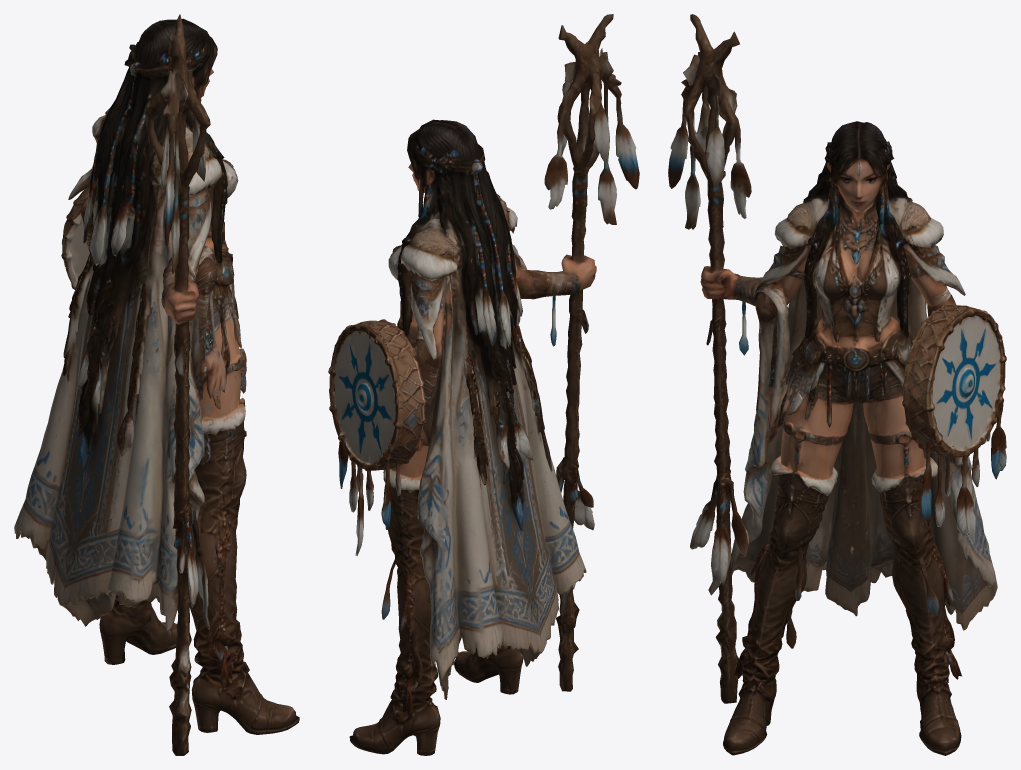
The model's file is drumcaller2_T0-tripo.glb.
3 renders of one model, left to right at view 1: azimuth 30°, elevation 25°; view 2: azimuth 150°, elevation 25°; view 3: azimuth 270°, elevation 25°, orthographic. The views are drawn at different scales.
Parts seen in each view (by area): view 1: tripo_node_cd5ef1df-f02d-4b8d-b730-f67332f5bfe5; view 2: tripo_node_cd5ef1df-f02d-4b8d-b730-f67332f5bfe5; view 3: tripo_node_cd5ef1df-f02d-4b8d-b730-f67332f5bfe5.
Boxes of the visible parts, <box> form: tripo_node_cd5ef1df-f02d-4b8d-b730-f67332f5bfe5: <box>14,14,299,755</box>; tripo_node_cd5ef1df-f02d-4b8d-b730-f67332f5bfe5: <box>328,14,639,755</box>; tripo_node_cd5ef1df-f02d-4b8d-b730-f67332f5bfe5: <box>668,14,1006,755</box>.
Size of the model in its own units: 0.2845 by 1 by 0.454.
Materials: 1 (1 with a texture image).
